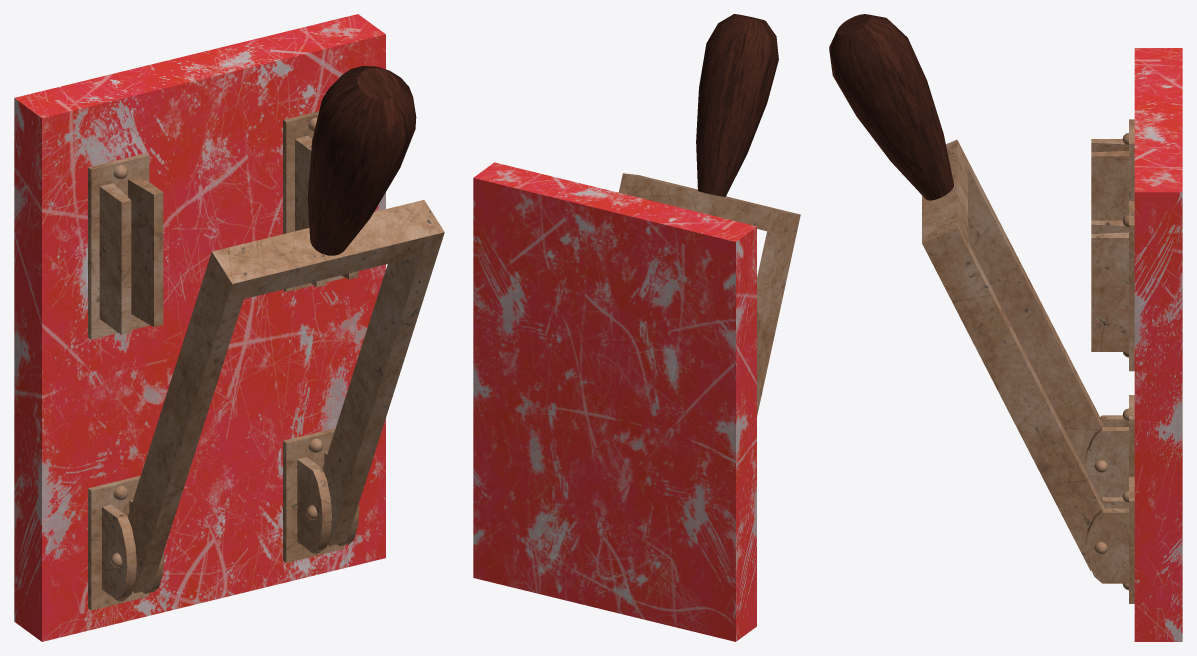
File: Switch.DAE
3 renders of one model, left to right at view 1: azimuth 30°, elevation 25°; view 2: azimuth 150°, elevation 25°; view 3: azimuth 270°, elevation 25°, orthographic. The views are drawn at different scales.
Parts seen in each view (by area): view 1: SwitchMain, SwitchHandle; view 2: SwitchMain, SwitchHandle; view 3: SwitchMain, SwitchHandle.
Boxes of the visible parts, left/top/right/bottom form: SwitchMain: left=14, top=14, right=385, bottom=641; SwitchHandle: left=127, top=66, right=444, bottom=593; SwitchMain: left=473, top=162, right=756, bottom=641; SwitchHandle: left=618, top=14, right=800, bottom=415; SwitchMain: left=1085, top=48, right=1182, bottom=641; SwitchHandle: left=829, top=14, right=1104, bottom=570.
Size of the model in its own units: 0.1297 by 0.2319 by 0.1342.
